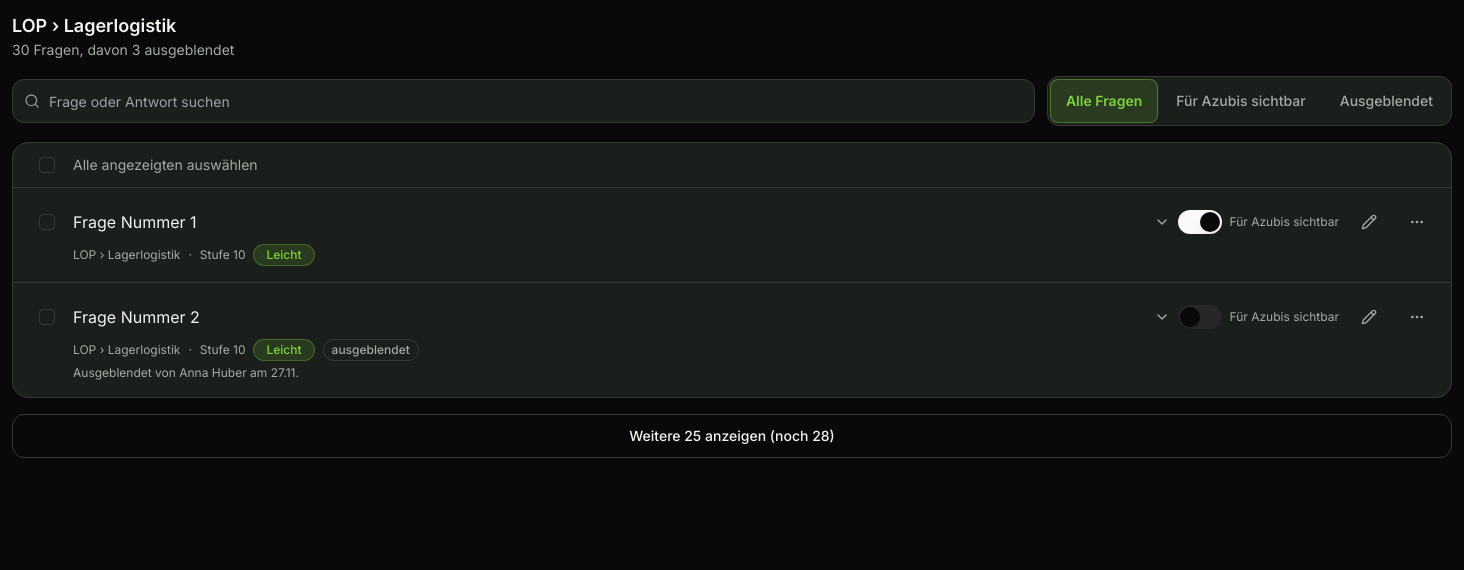
Test case: Reiter „Fragen“ (PROJ-131) › bietet statt Seitenzahlen „Weitere … anzeigen“ und hängt an (B39)
Expected: the text "Frage Nummer 1" is shown, [73, 212, 196, 232]
Click the button "Weitere 25 anzeigen (noch 28)" at (732, 436), box [12, 414, 1452, 458]
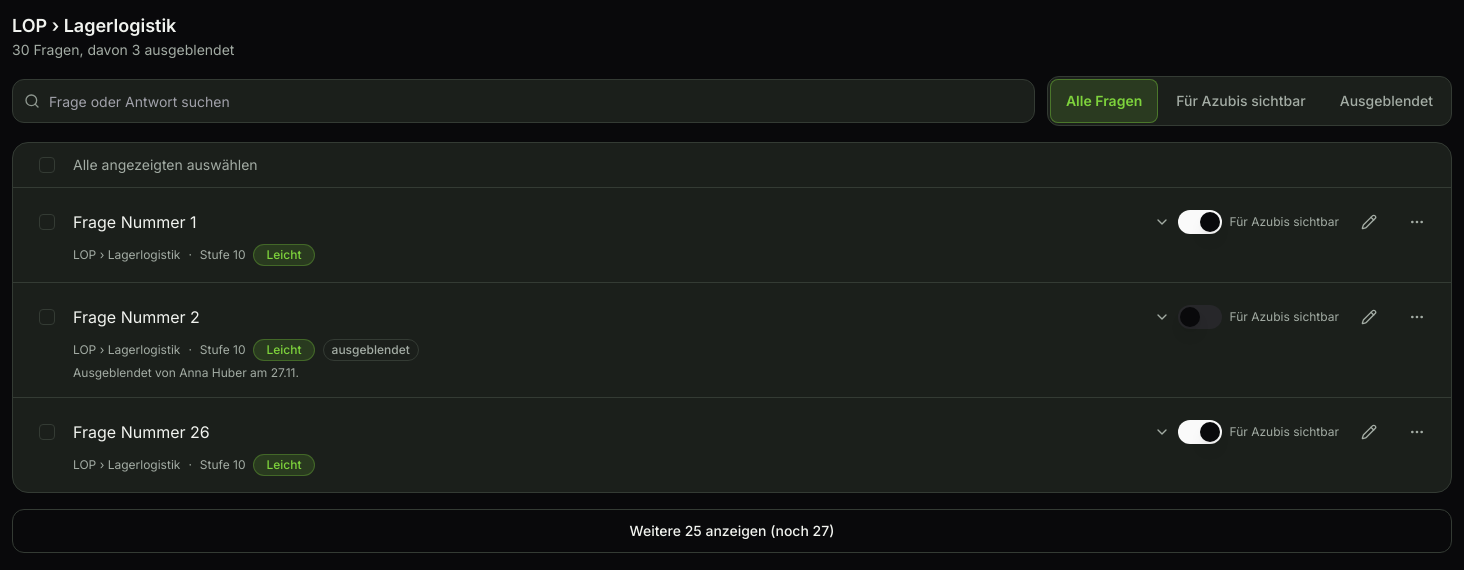
Expected: the text "Frage Nummer 1" is shown, [73, 212, 196, 232]
Expected: the text "Frage Nummer 26" is shown, [73, 422, 210, 442]
